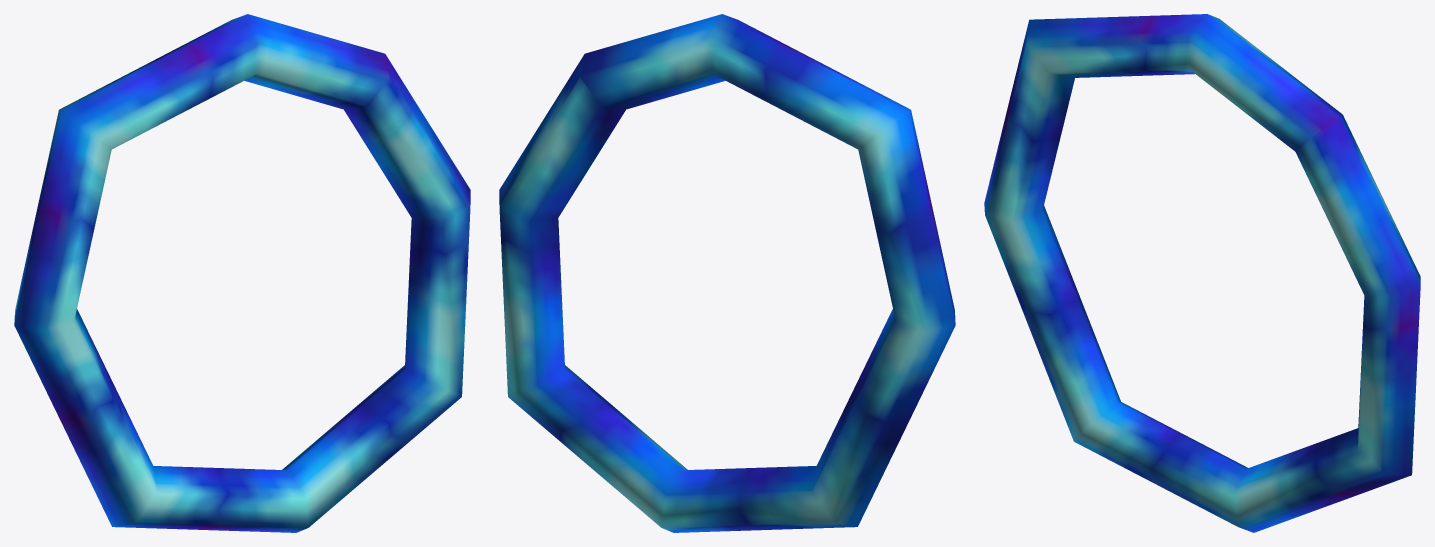
The model's file is furni_0200172.FBX.
The picture shows the model from 3 angles, left to right: view 1: azimuth 30°, elevation 25°; view 2: azimuth 150°, elevation 25°; view 3: azimuth 330°, elevation 25°; orthographic projection. The views are drawn at different scales.
Parts seen in each view (by area): view 1: furni_0200172; view 2: furni_0200172; view 3: furni_0200172.
Part boxes in pixels (left/top/right/bottom): furni_0200172: left=14, top=14, right=470, bottom=532; furni_0200172: left=499, top=14, right=955, bottom=532; furni_0200172: left=984, top=14, right=1420, bottom=532.
Size of the model in its own units: 47.41 by 52.7 by 5.2.
